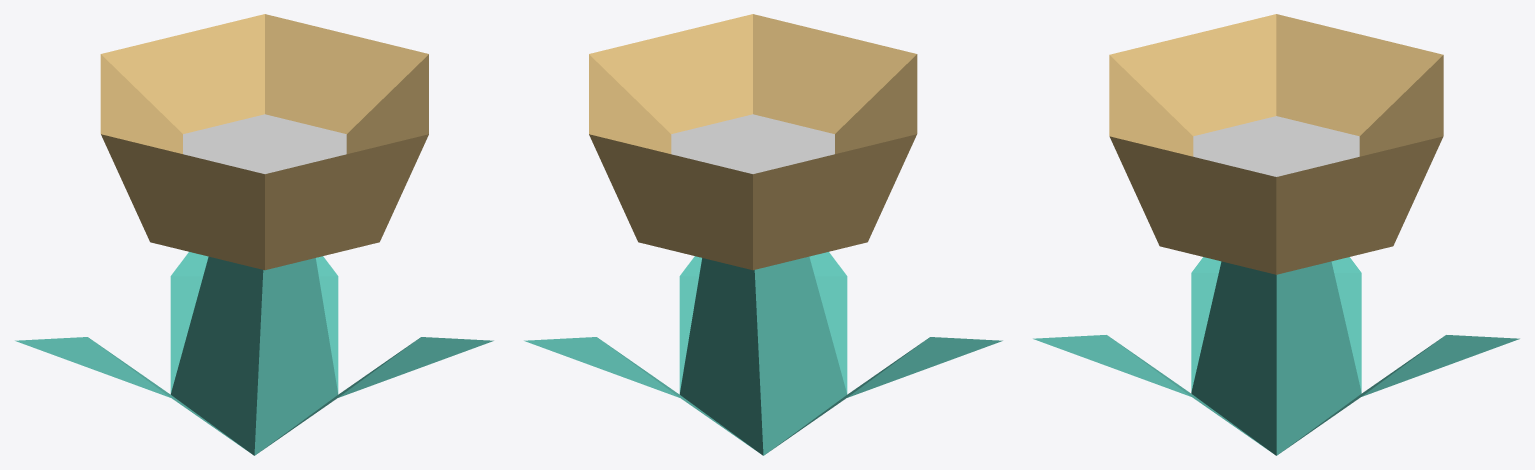
File: flower_yellowC.glb
3 views of the same model, side by side, from view 1: azimuth 30°, elevation 25°; view 2: azimuth 150°, elevation 25°; view 3: azimuth 270°, elevation 25° (orthographic).
Parts seen in each view (by area): view 1: flower_yellowC; view 2: flower_yellowC; view 3: flower_yellowC.
Boxes of the visible parts, x1=… form: flower_yellowC: x1=15, y1=14, x2=493, y2=455; flower_yellowC: x1=524, y1=14, x2=1002, y2=455; flower_yellowC: x1=1033, y1=14, x2=1519, y2=455.
Size of the model in its own units: 0.1806 by 0.1325 by 0.1811.
